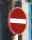No entry: (5, 6, 27, 35)
